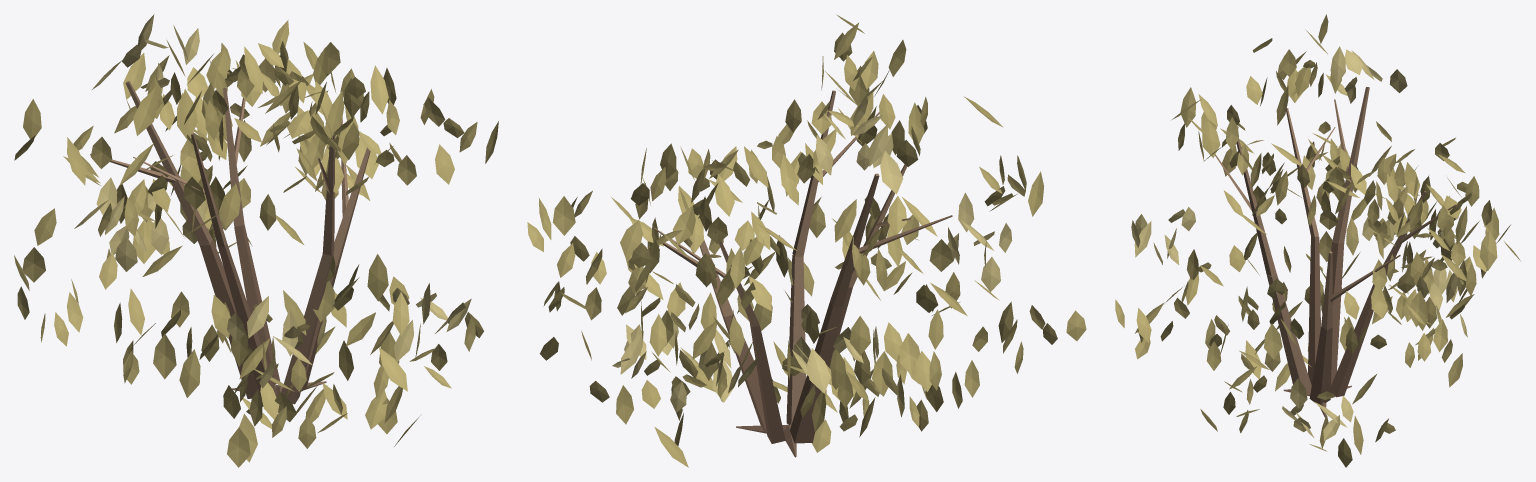
Rendered from bush_3d_03_yellow.glb.
3 renders of one model, left to right at view 1: azimuth 30°, elevation 25°; view 2: azimuth 150°, elevation 25°; view 3: azimuth 270°, elevation 25°, orthographic. The views are drawn at different scales.
Parts seen in each view (by area): view 1: bush_3d_03_yellow_foliage, bush_3d_03_yellow_wood; view 2: bush_3d_03_yellow_foliage, bush_3d_03_yellow_wood; view 3: bush_3d_03_yellow_foliage, bush_3d_03_yellow_wood.
Boxes of the visible parts, x1,y1,x2,y2 form: bush_3d_03_yellow_foliage: (14,14,498,467); bush_3d_03_yellow_wood: (90,81,370,404); bush_3d_03_yellow_foliage: (527,14,1086,467); bush_3d_03_yellow_wood: (653,90,952,457); bush_3d_03_yellow_foliage: (1115,14,1520,467); bush_3d_03_yellow_wood: (1215,87,1455,417).
Size of the model in its own units: 2.6 by 2 by 2.2.
